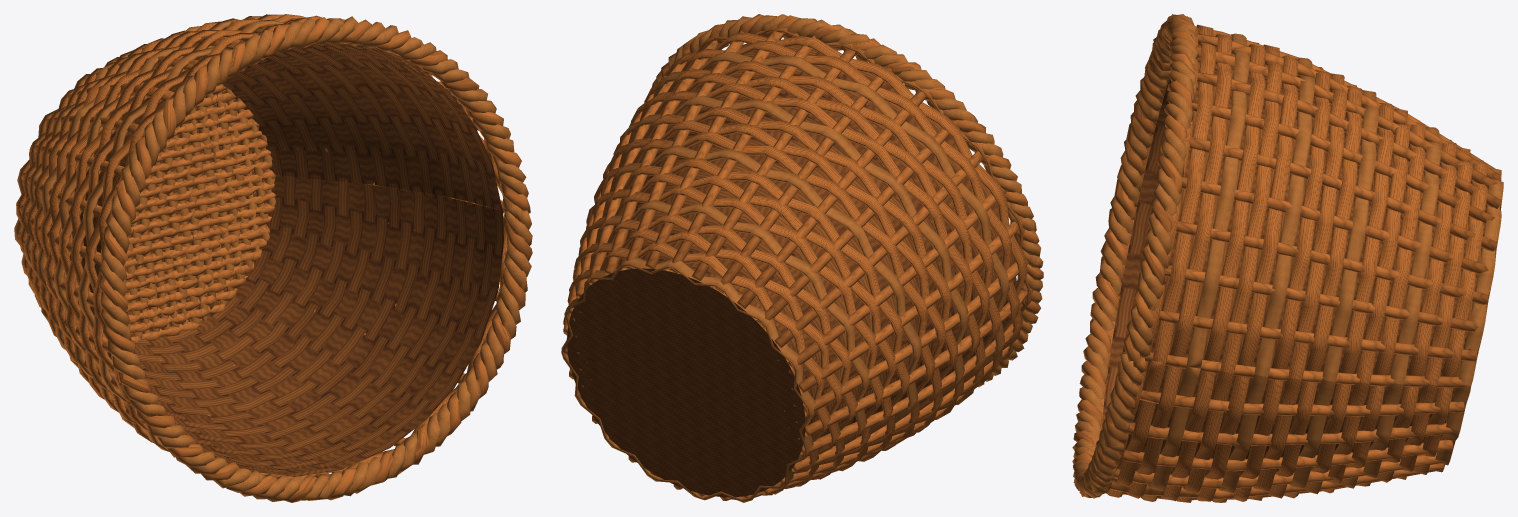
Rendered from wicker-basket.glb.
3 renders of one model, left to right at view 1: azimuth 30°, elevation 25°; view 2: azimuth 150°, elevation 25°; view 3: azimuth 270°, elevation 25°, orthographic. The views are drawn at different scales.
Parts seen in each view (by area): view 1: wicker-basket-mesh; view 2: wicker-basket-mesh; view 3: wicker-basket-mesh.
Part boxes in pixels (x1,y1,x2,y2): wicker-basket-mesh: (14, 14, 532, 502); wicker-basket-mesh: (561, 14, 1043, 502); wicker-basket-mesh: (1072, 14, 1503, 502).
Size of the model in its own units: 0.4624 by 0.4586 by 0.4037.
3 materials, 3 textured.
